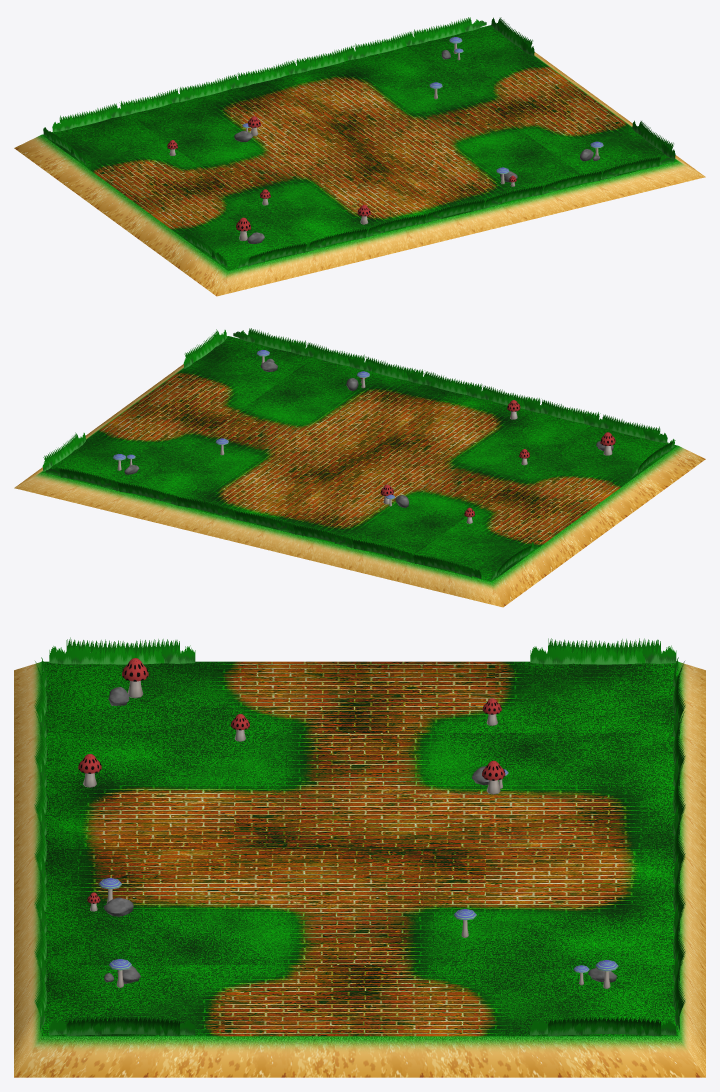
Rendered from Stage_Garden.fbx.
3 views of the same model, one above another, from view 1: azimuth 30°, elevation 25°; view 2: azimuth 150°, elevation 25°; view 3: azimuth 270°, elevation 25° (orthographic). The views are drawn at different scales.
Visible parts, largest first — view 1: main, grid, grid17, grid19, grid13, grid9, grid11, grid15, polymsh_extracted1, polymsh_extracted3, grid7; view 2: main, grid, grid17, grid19, grid13, grid9, grid15, grid11, polymsh_extracted1, polymsh_extracted3, grid7; view 3: main, polymsh_extracted3, polymsh_extracted1, polymsh_extracted2, polymsh_extracted, grid19, grid, grid17, grid15, grid9, grid13, grid11 (+1 smaller).
Part boxes in pixels (x1,y1,x2,y2): main: [14, 25, 705, 296]; grid: [59, 103, 306, 266]; grid17: [354, 31, 602, 194]; grid19: [413, 17, 660, 180]; grid13: [237, 60, 484, 223]; grid9: [119, 88, 367, 251]; grid11: [179, 74, 426, 237]; grid15: [296, 45, 543, 208]; polymsh_extracted1: [185, 121, 673, 264]; polymsh_extracted3: [44, 17, 532, 161]; grid7: [52, 105, 310, 267]; main: [14, 336, 705, 607]; grid: [413, 414, 660, 577]; grid17: [117, 342, 365, 505]; grid19: [59, 328, 306, 491]; grid13: [235, 371, 482, 534]; grid9: [352, 399, 600, 562]; grid15: [176, 356, 423, 519]; grid11: [293, 385, 540, 548]; polymsh_extracted1: [184, 329, 672, 474]; polymsh_extracted3: [43, 432, 531, 577]; grid7: [409, 416, 667, 578]; main: [14, 661, 705, 1077]; polymsh_extracted3: [548, 638, 660, 1036]; polymsh_extracted1: [66, 637, 179, 1036]; polymsh_extracted2: [530, 645, 676, 1035]; polymsh_extracted: [49, 645, 195, 1035]; grid19: [34, 956, 685, 1016]; grid: [34, 661, 685, 722]; grid17: [34, 907, 685, 967]; grid15: [34, 858, 685, 918]; grid9: [34, 712, 685, 772]; grid13: [34, 809, 685, 870]; grid11: [34, 761, 685, 821].
Bounding box in the file's own units: 1854 × 135 × 1331.
4 materials, 4 textured.
